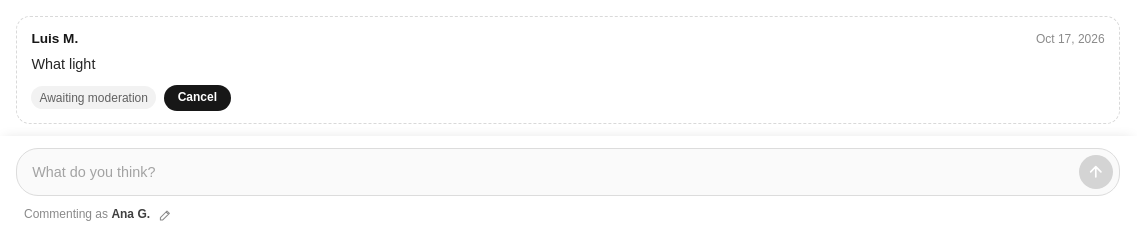
PhotoComments › offers to cancel an own comment still awaiting moderation
Click the button "Cancel": [197, 98] box left=164, top=85, right=231, bottom=111
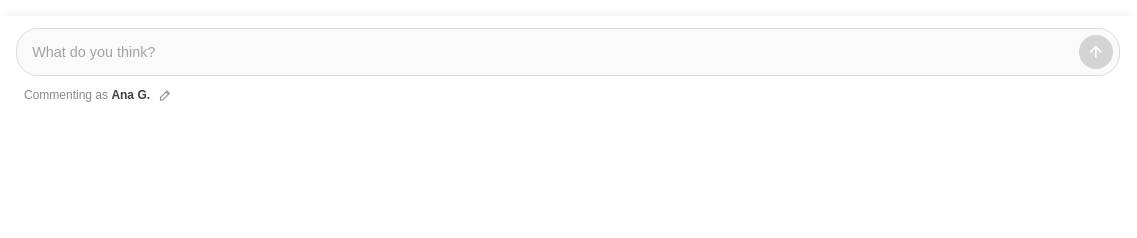
Expected: the text "What light" is gone
